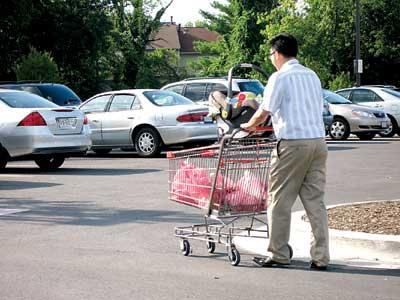person: (241, 36, 330, 273)
